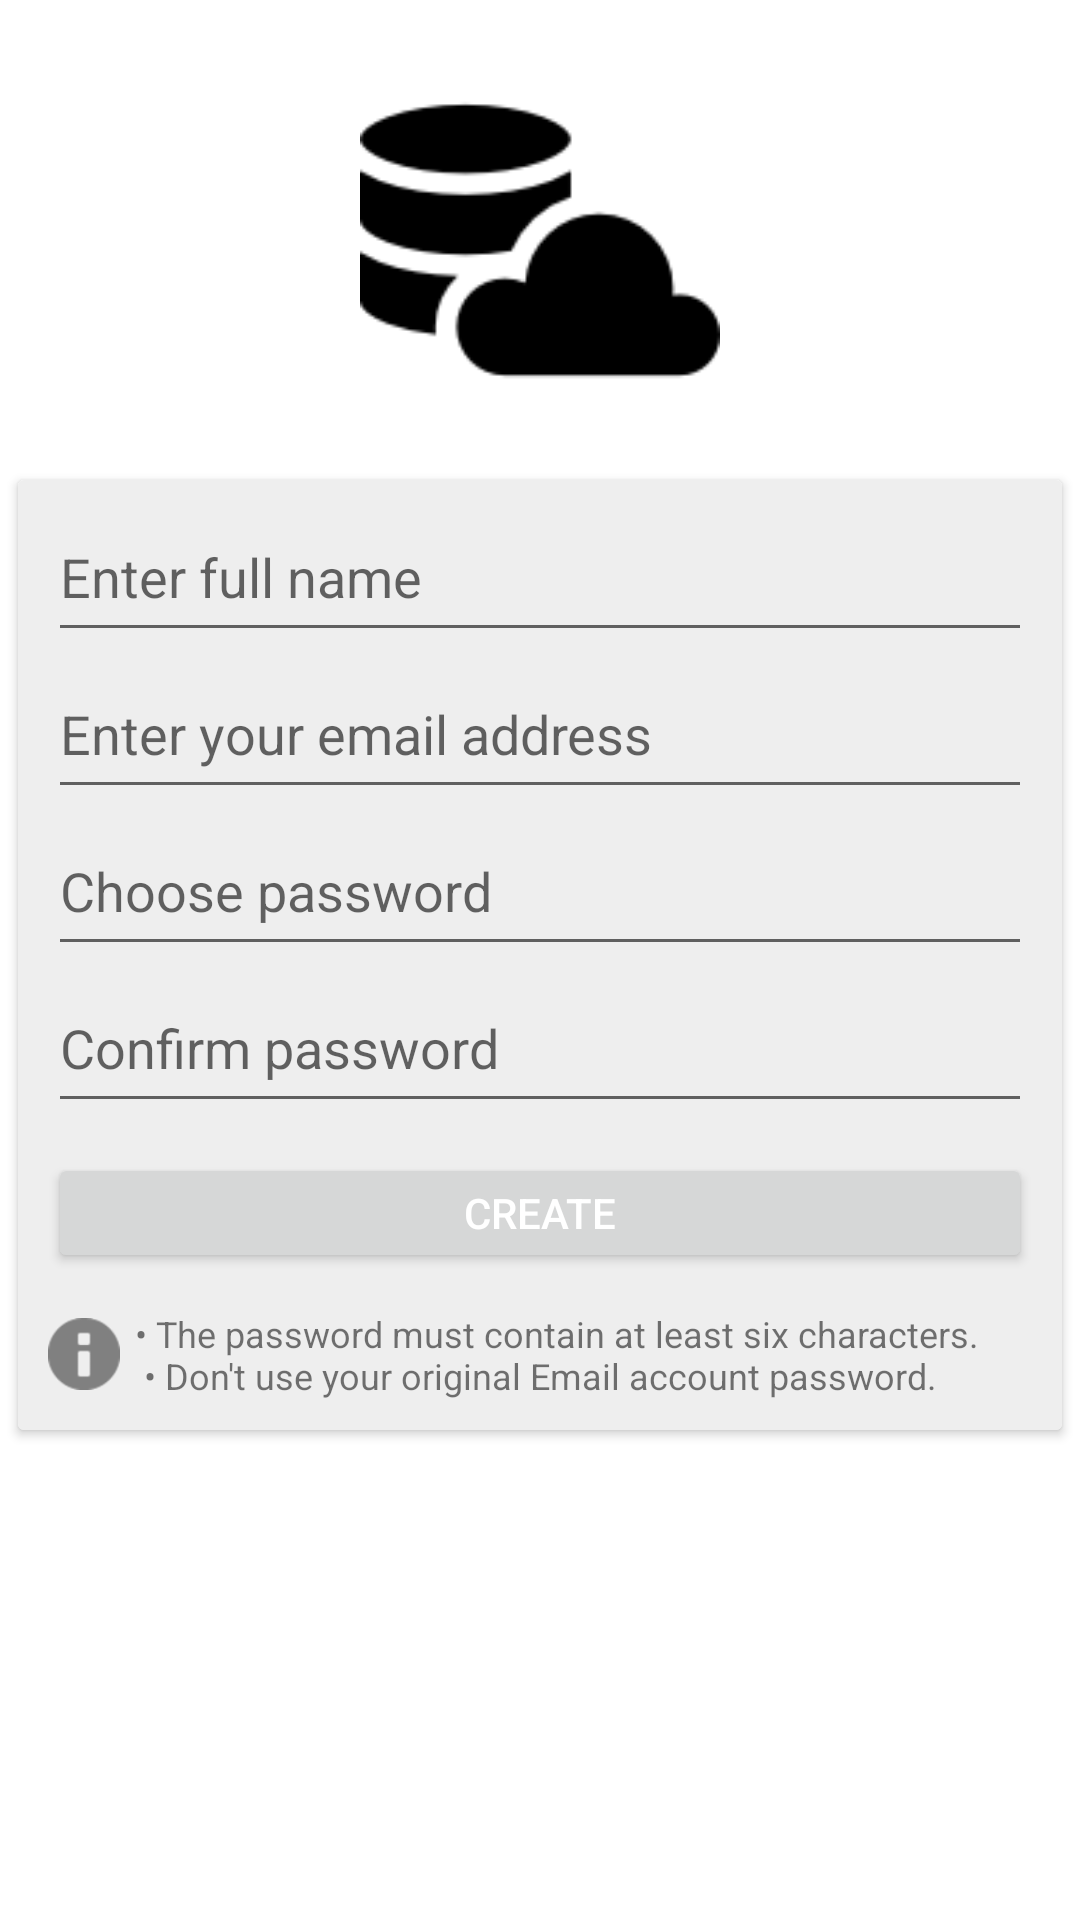

Icons on this 1080x1920 Android screen, each with its box as [left=x1, top=y1, right=x2, bottom=y2]:
info: [left=48, top=1318, right=120, bottom=1390]
